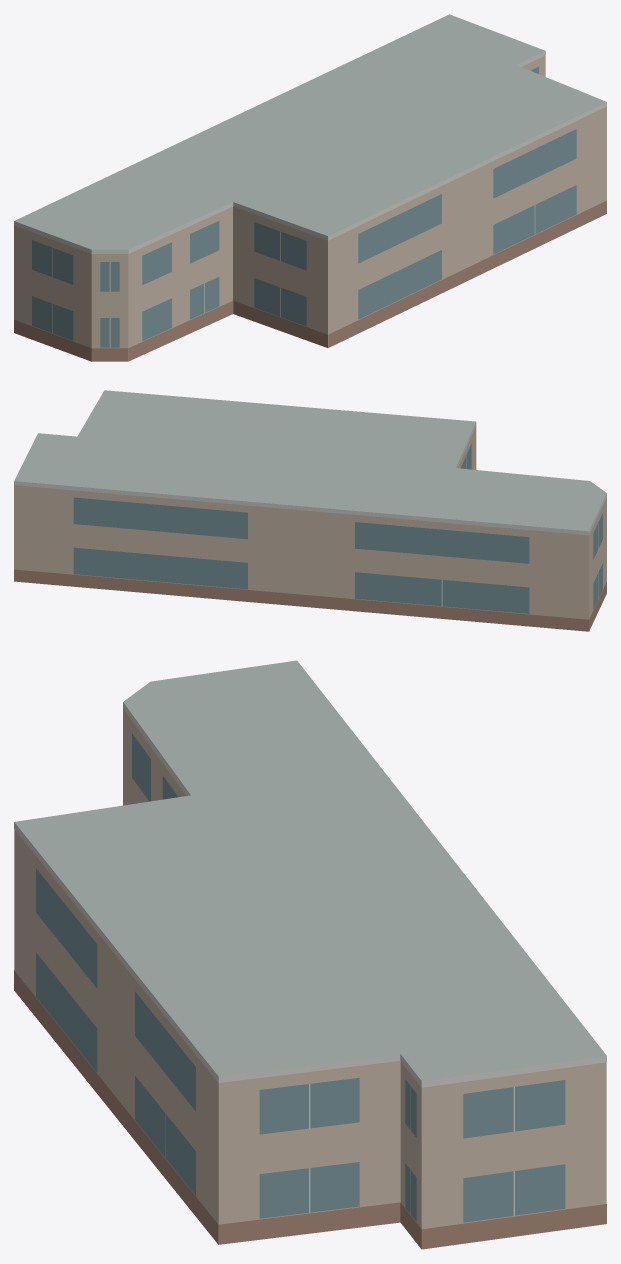
File: survey-upis-32680428.glb
The picture shows the model from 3 angles, top to bottom: view 1: azimuth 30°, elevation 25°; view 2: azimuth 150°, elevation 25°; view 3: azimuth 270°, elevation 25°; orthographic projection. The views are drawn at different scales.
Parts seen in each view (by area): view 1: survey-upis-32680428.tmp; view 2: survey-upis-32680428.tmp; view 3: survey-upis-32680428.tmp.
Boxes of the visible parts, x1,y1,x2,y2 form: survey-upis-32680428.tmp: [14, 14, 606, 361]; survey-upis-32680428.tmp: [14, 390, 606, 631]; survey-upis-32680428.tmp: [14, 660, 606, 1249].
Bounding box in the file's own units: 32.69 × 6.1 × 19.47.
